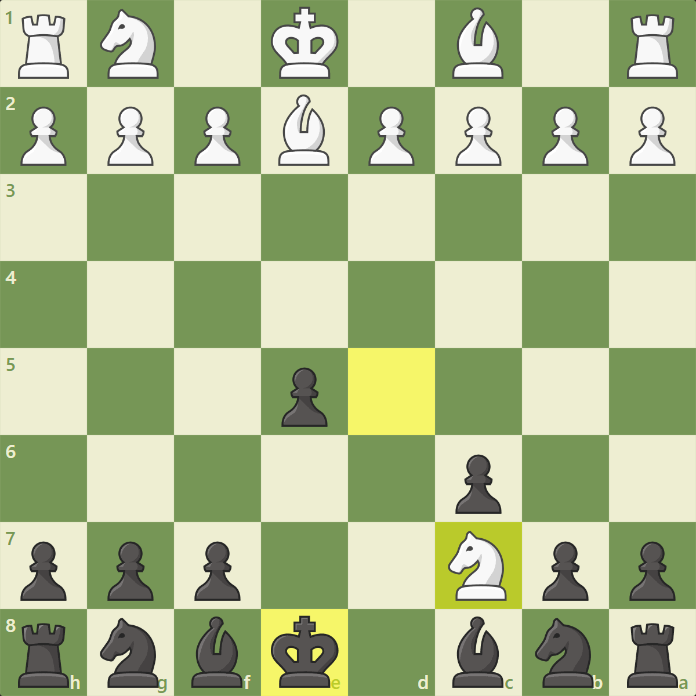B: (276, 92, 331, 168), (451, 6, 506, 82)
K: (269, 5, 341, 81)
N: (445, 529, 509, 604), (98, 7, 161, 81)
P: (17, 104, 69, 169), (104, 103, 156, 168), (190, 103, 242, 168), (364, 103, 416, 168), (451, 103, 503, 168), (538, 102, 590, 167), (627, 104, 676, 168)
R: (16, 12, 72, 82), (625, 11, 680, 81)
b: (189, 615, 245, 691), (450, 614, 505, 690)
k: (269, 614, 341, 691)
n: (97, 616, 163, 690), (534, 615, 597, 691)
p: (14, 539, 70, 606), (104, 538, 156, 604), (191, 538, 243, 604), (279, 364, 331, 430), (452, 450, 504, 516), (539, 538, 591, 604), (625, 537, 677, 603)
r: (623, 621, 682, 691), (17, 621, 72, 691)
